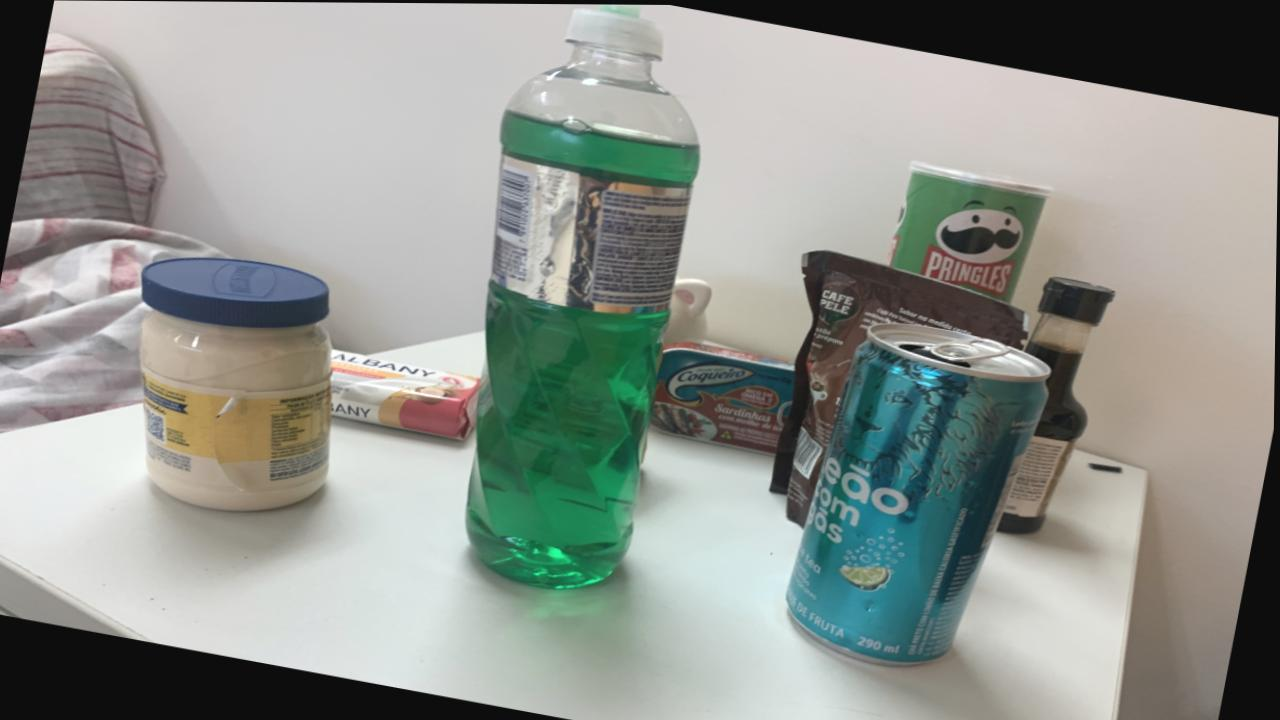Coffee-Pantry_Items: (770, 248, 1030, 523)
Detergent-Cleanup_Items: (466, 4, 700, 588)
English_Sauce-Pantry_Items: (999, 275, 1114, 532)
Mayonnaise-Pantry_Items: (139, 257, 333, 510)
Pig_Safe-Miscellaneous: (663, 276, 713, 343)
Pringles-Snacks: (889, 159, 1053, 300)
Soap-Cleanup_Items: (331, 349, 480, 439)
Tea-Drinks: (788, 321, 1052, 663)
Tuna_Can-Pantry_Items: (650, 340, 795, 453)
